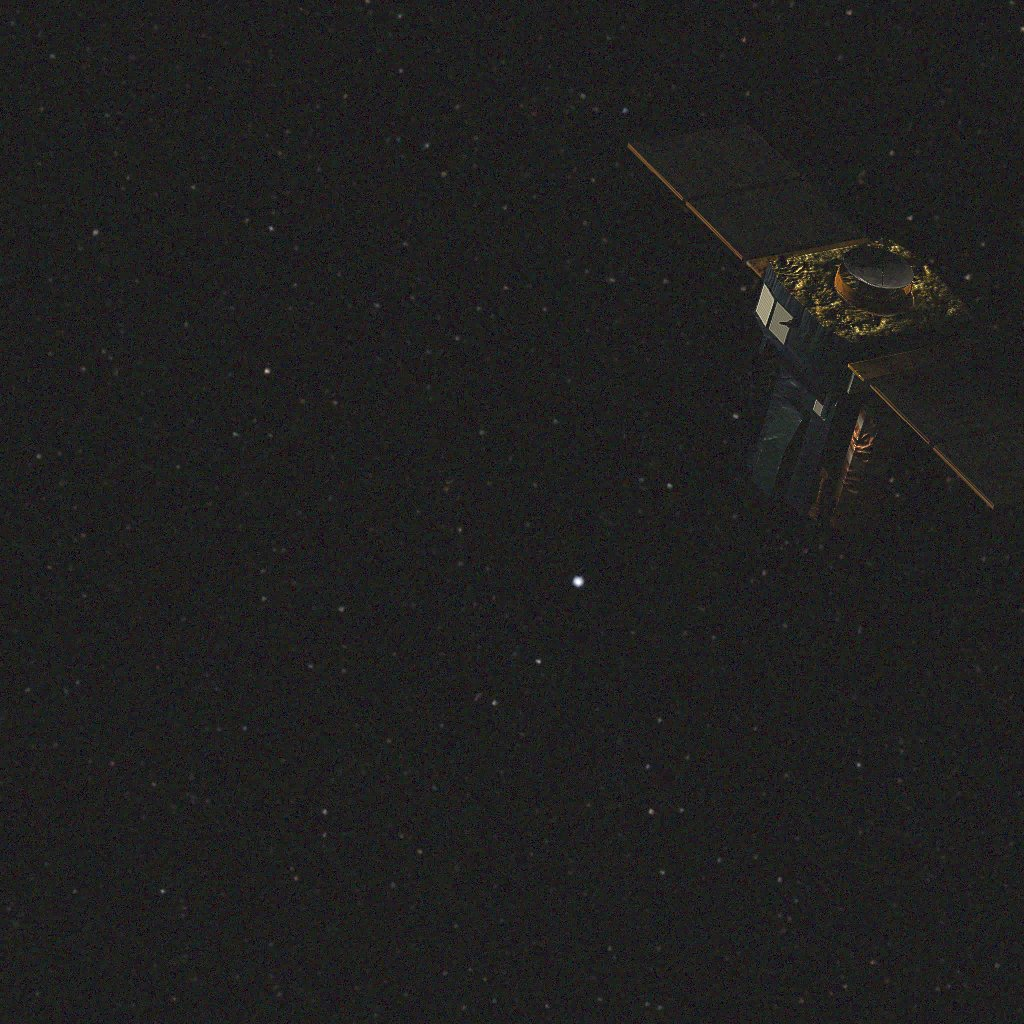soho: (627, 123, 1024, 535)
